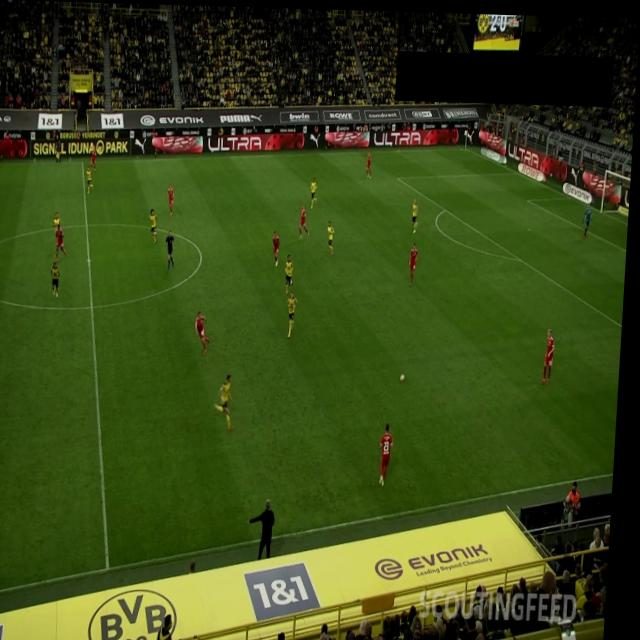goalkeeper: (584, 200, 595, 236)
player: (219, 372, 242, 430), (383, 419, 400, 484), (545, 325, 559, 382), (198, 309, 215, 354), (289, 289, 301, 337), (56, 226, 71, 262), (165, 612, 182, 640), (287, 252, 298, 294), (411, 239, 421, 285), (328, 217, 339, 256), (301, 203, 313, 238), (53, 260, 64, 297), (150, 207, 161, 242), (274, 228, 284, 265), (311, 175, 320, 207), (169, 183, 177, 215), (87, 165, 96, 193), (414, 196, 421, 230), (92, 143, 100, 171), (55, 211, 64, 233), (367, 149, 374, 176)
referee: (167, 227, 179, 269), (56, 132, 64, 163)
